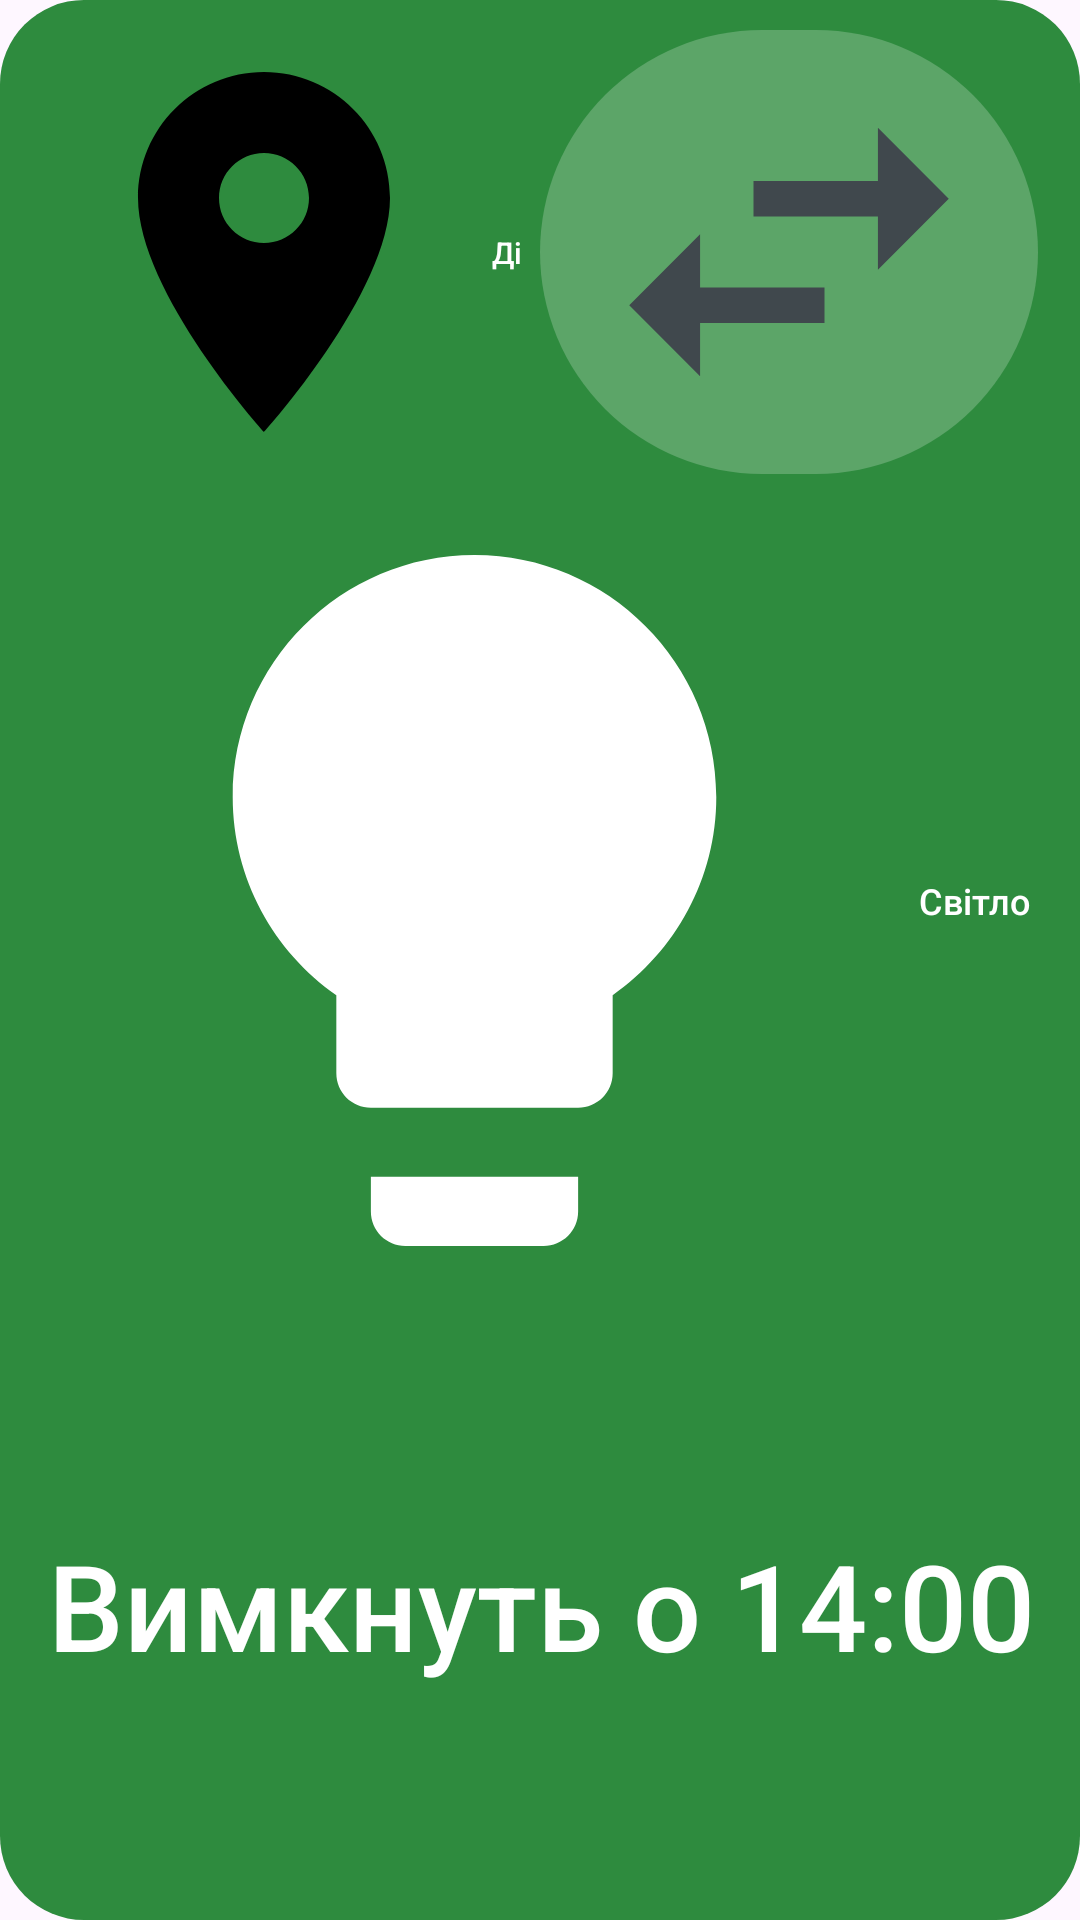

Where to tap for icons on this 1080 × 1920 app screen, as [x,y]:
place: [264,252]
